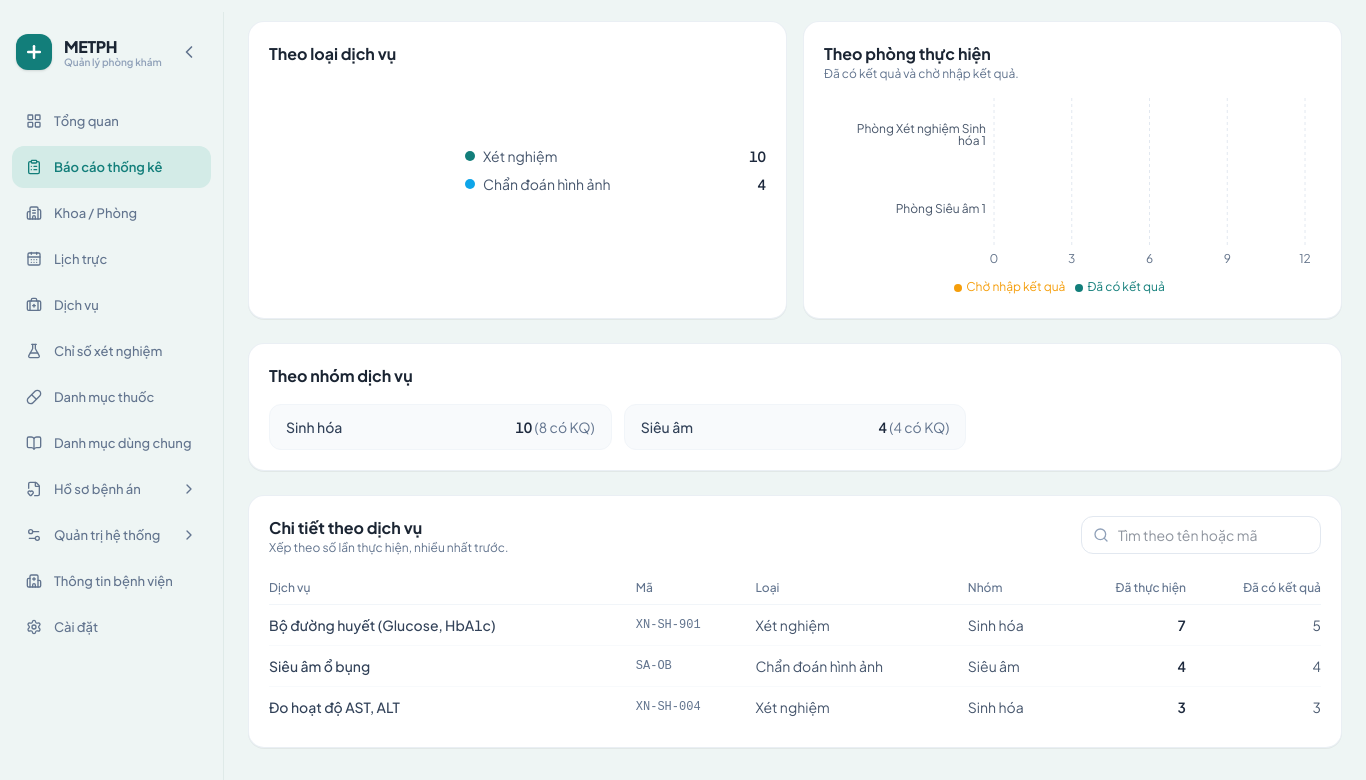
Test: ParaclinicalStatisticsPage (UC-30) › lists every performed service and finds one by name or code without accents
(page scrolled)
Expected: the number of rows is 4, top-left (269, 572), bottom-right (1321, 604); top-left (269, 604), bottom-right (1321, 646); top-left (269, 646), bottom-right (1321, 686); top-left (269, 686), bottom-right (1321, 727)
Expected: the row that starts with "Bộ đường huyết (Glucose, HbA1c)" reads "Bộ đường huyết (Glucose, HbA1c) XN-SH-901 Xét nghiệm Sinh hóa 7 5", top-left (269, 604), bottom-right (1321, 646)
// tim o server: cho ket qua tra ve
Type "sieu am" into the search field named "Tìm dịch vụ".
click(1201, 535); type("sieu am")  # box top-left (1081, 516), bottom-right (1321, 554)
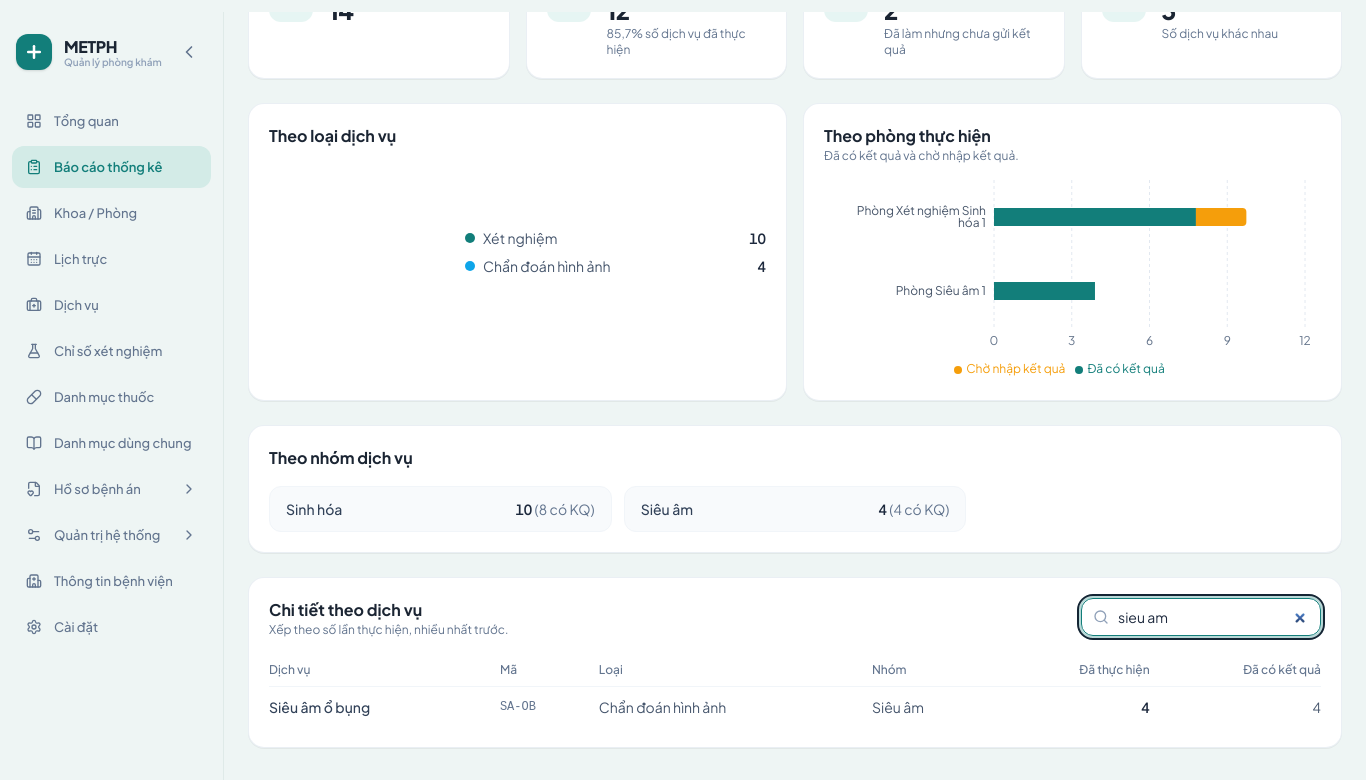
Expected: the number of rows is 2, top-left (269, 654), bottom-right (1321, 686); top-left (269, 686), bottom-right (1321, 727)
Expected: the table shows "Siêu âm ổ bụng", top-left (269, 698), bottom-right (370, 716)
Replace the text in the search field named "Tìm dịch vụ" with "xn-sh-004" at (1201, 617), box top-left (1081, 598), bottom-right (1321, 636)
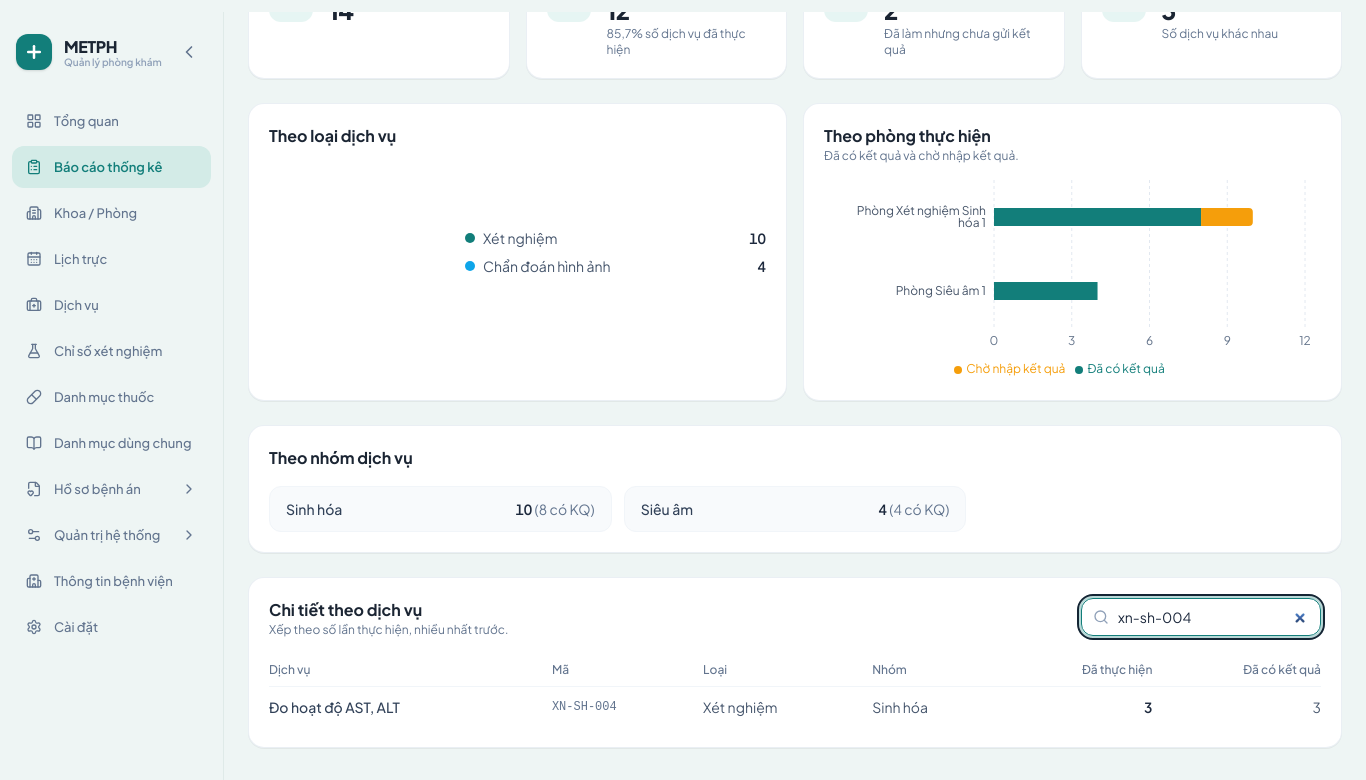
Expected: the table shows "Đo hoạt độ AST, ALT", top-left (269, 698), bottom-right (400, 716)
Replace the text in the search field named "Tìm dịch vụ" with "không có" at (1201, 617), box top-left (1081, 598), bottom-right (1321, 636)
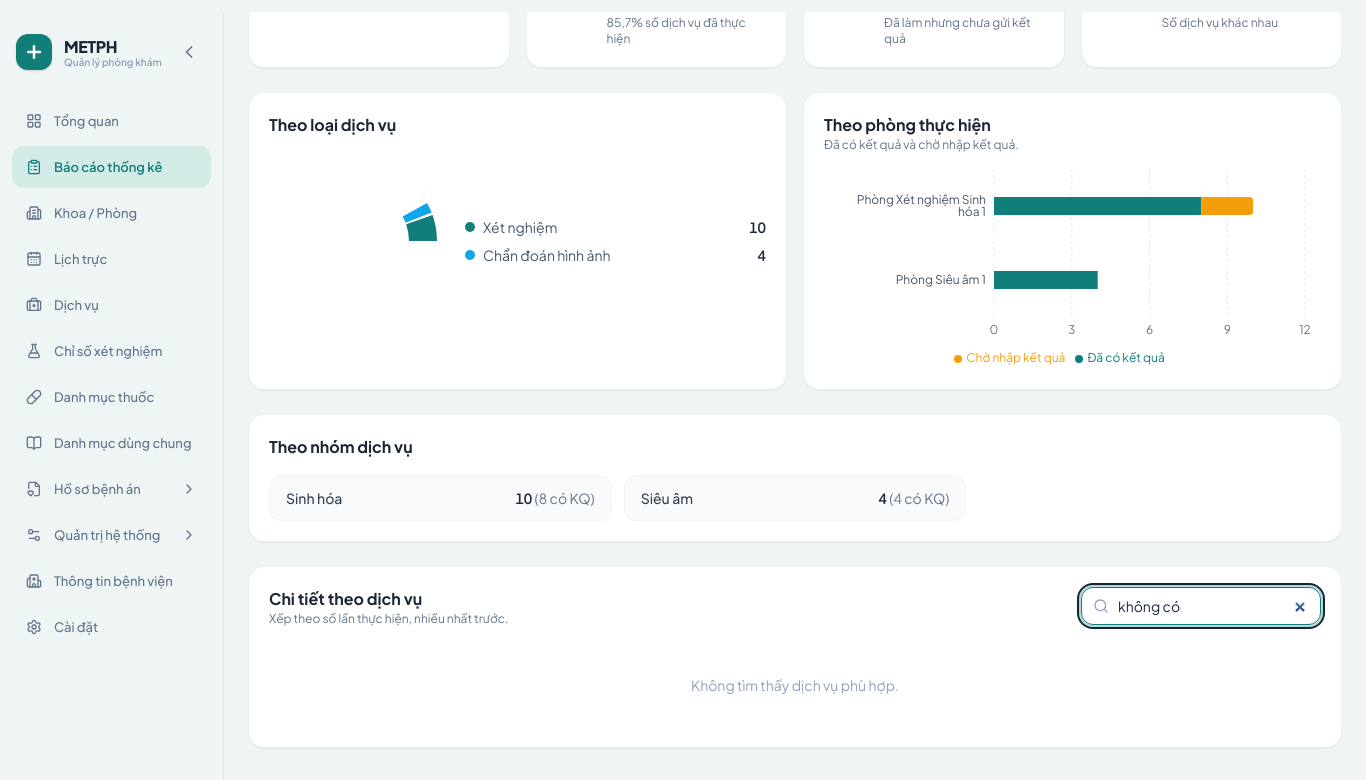
Expected: the text "Không tìm thấy dịch vụ phù hợp." is shown, top-left (691, 676), bottom-right (899, 694)
